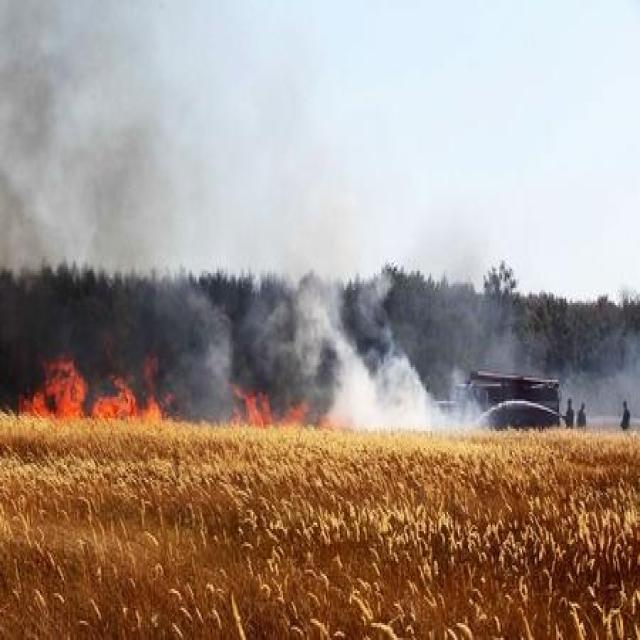Fire: (14, 354, 175, 424), (228, 382, 308, 429)
Smoke: (1, 2, 640, 431)
